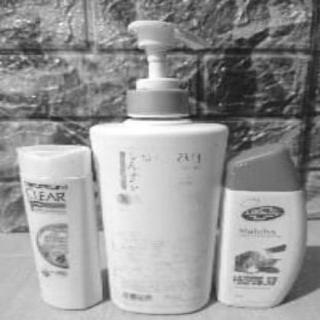objects: (222, 144, 308, 312), (14, 140, 95, 306)
